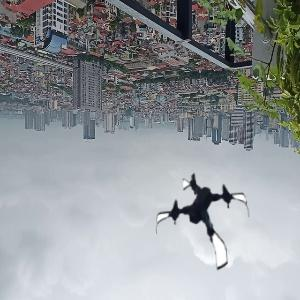drone: (153, 171, 256, 274)
